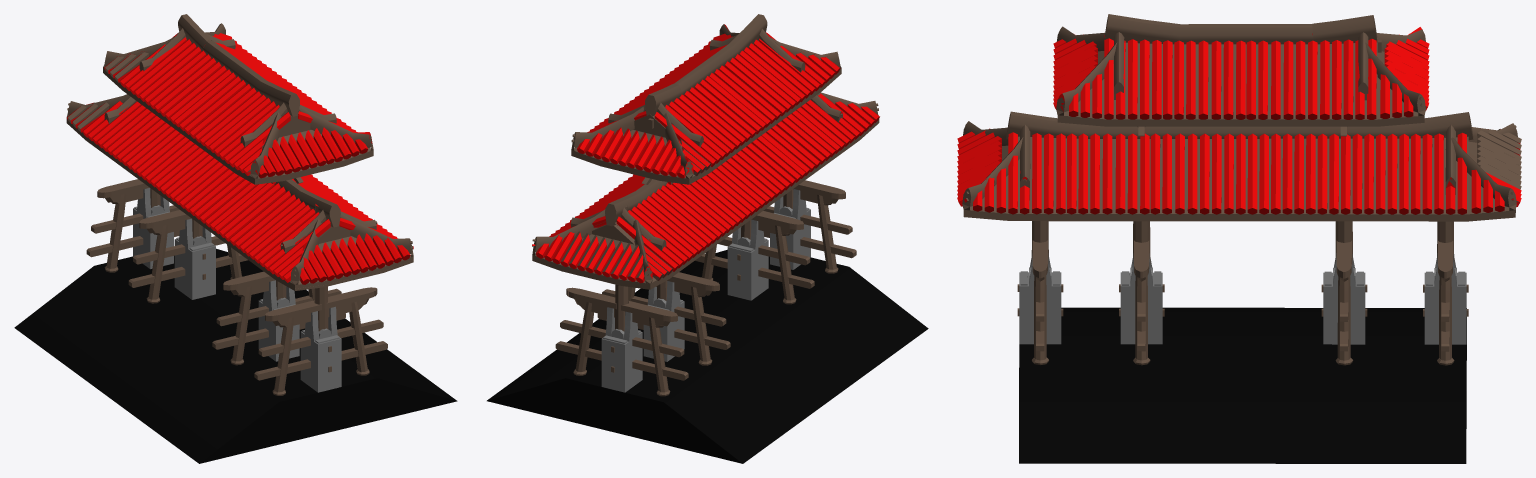
File: Japanese_Door.fbx
The picture shows the model from 3 angles, left to right: view 1: azimuth 30°, elevation 25°; view 2: azimuth 150°, elevation 25°; view 3: azimuth 270°, elevation 25°; orthographic projection. The views are drawn at different scales.
Parts seen in each view (by area): view 1: Japanese_Door; view 2: Japanese_Door; view 3: Japanese_Door.
Boxes of the visible parts, x1,y1,x2,y2 form: Japanese_Door: (14, 14, 457, 463); Japanese_Door: (487, 14, 928, 463); Japanese_Door: (957, 14, 1521, 463).
Bounding box in the file's own units: 114 × 131 × 179.
